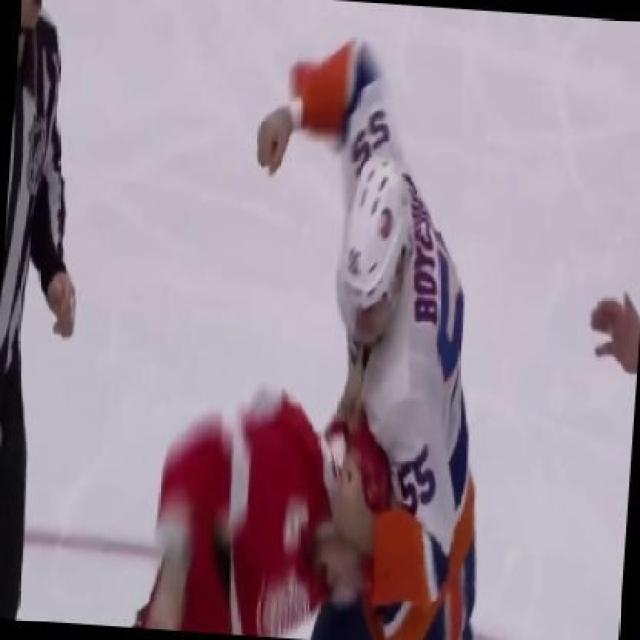fight: (135, 0, 495, 638)
